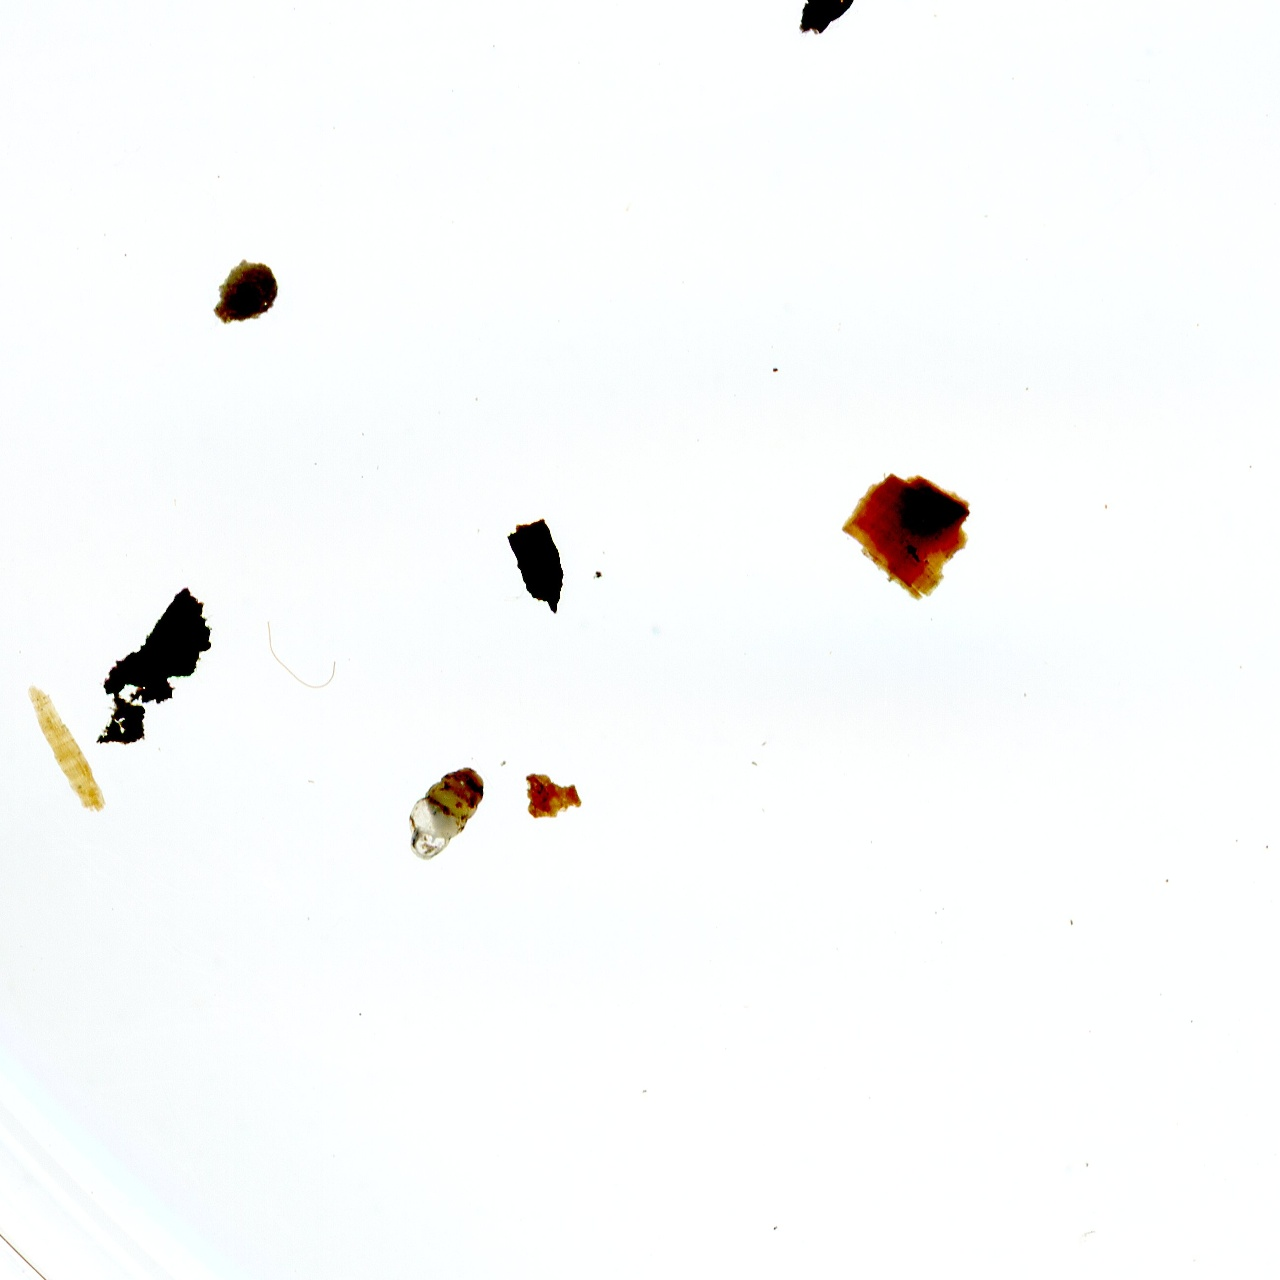arthropod: (402, 761, 488, 869)
